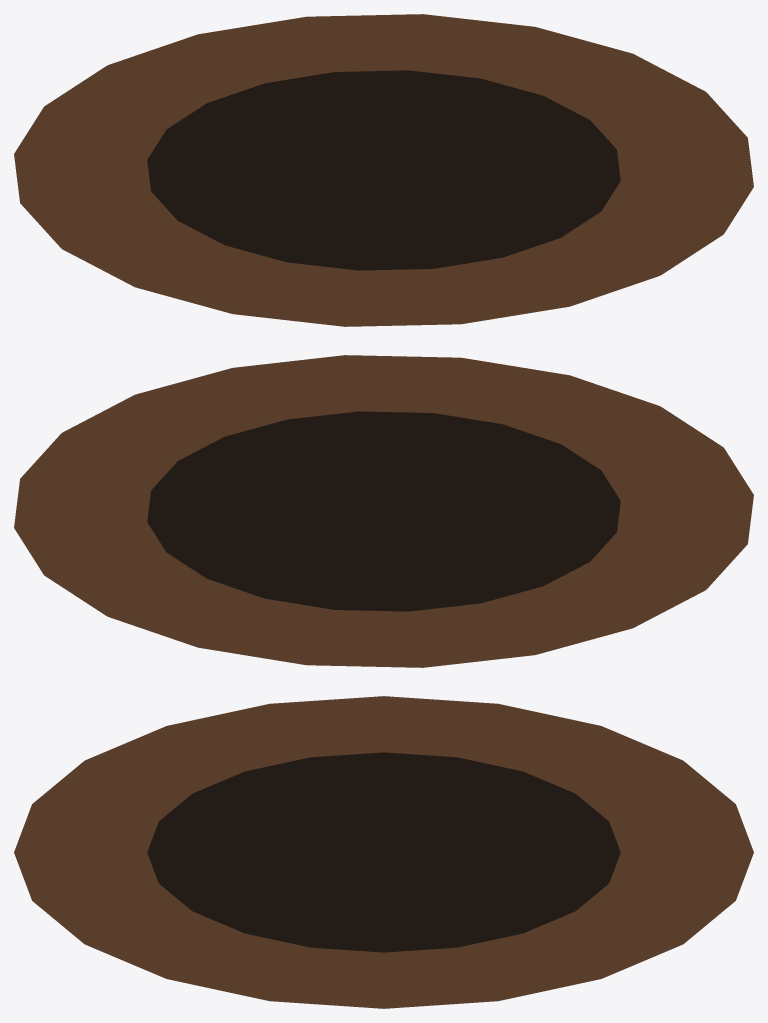
Rendered from shadow.glb.
3 views of the same model, one above another, from view 1: azimuth 30°, elevation 25°; view 2: azimuth 150°, elevation 25°; view 3: azimuth 270°, elevation 25° (orthographic).
Parts seen in each view (by area): view 1: jam_shadow_body; view 2: jam_shadow_body; view 3: jam_shadow_body.
Boxes of the visible parts, x1,y1,x2,y2 form: jam_shadow_body: (14,14,753,326); jam_shadow_body: (14,355,753,667); jam_shadow_body: (14,696,753,1008).
Size of the model in its own units: 1 by 0 by 1.
Materials: 1 (1 with a texture image).
